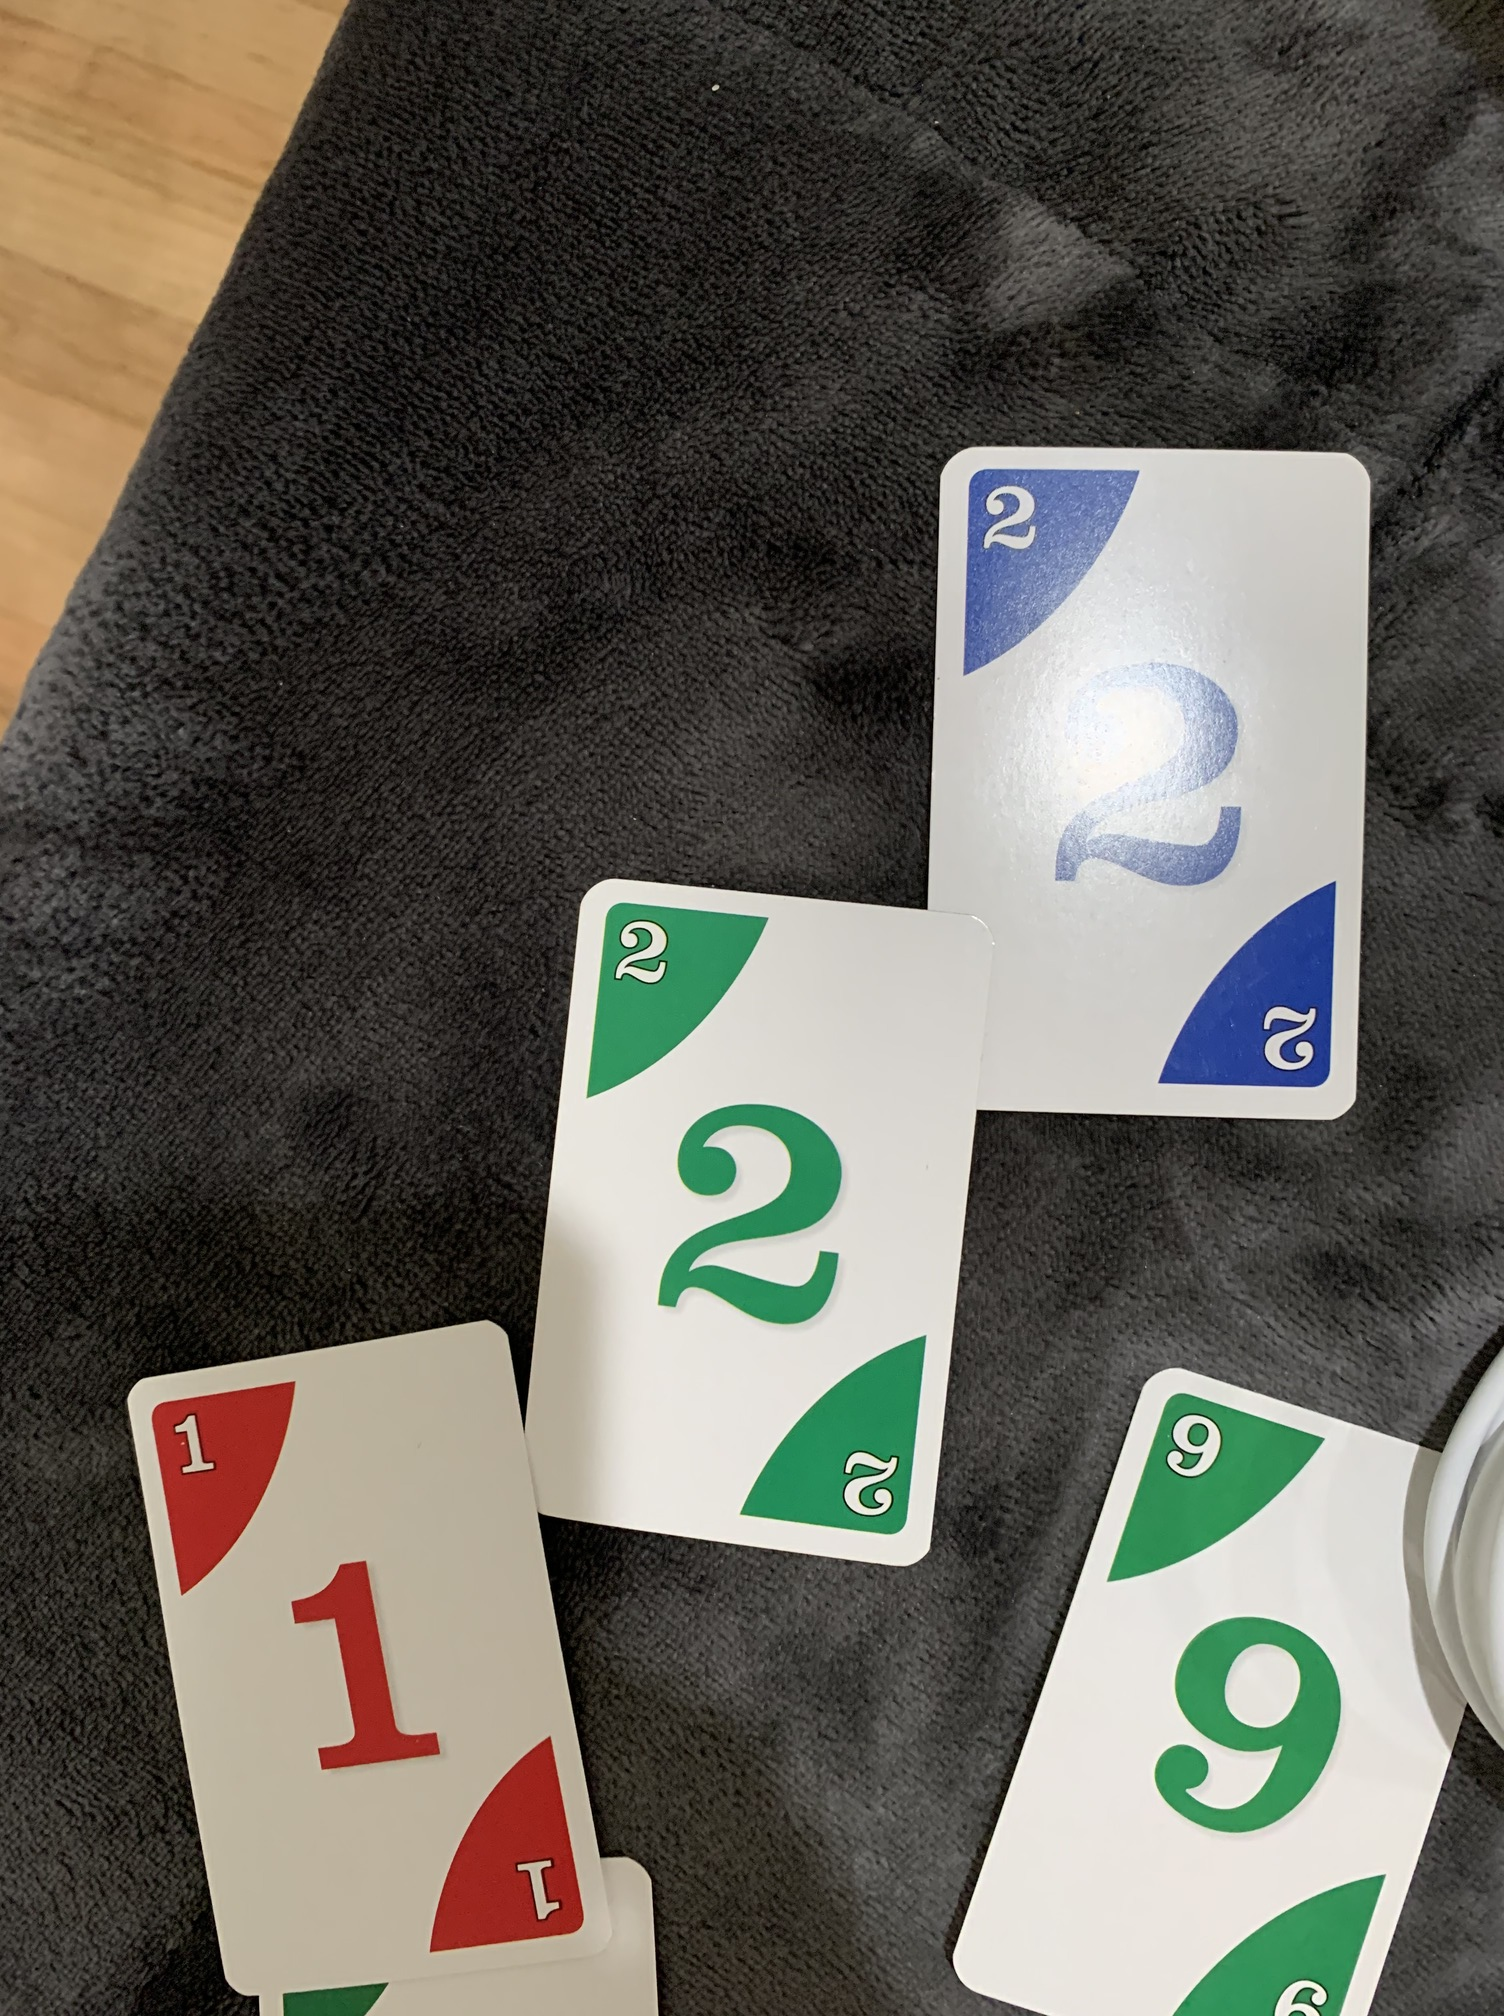nine: (938, 1370, 1495, 2016)
one: (117, 1315, 627, 1995)
two: (510, 875, 984, 1570), (926, 438, 1379, 1138)
